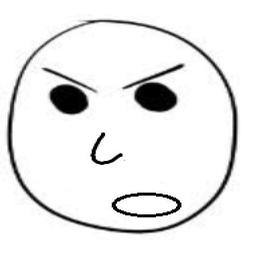eye: (129, 80, 179, 114), (44, 84, 90, 120)
frowning_eyebrow: (119, 61, 186, 93), (43, 63, 99, 92)
nose: (89, 126, 126, 171)
open_mouth: (110, 185, 186, 220)
